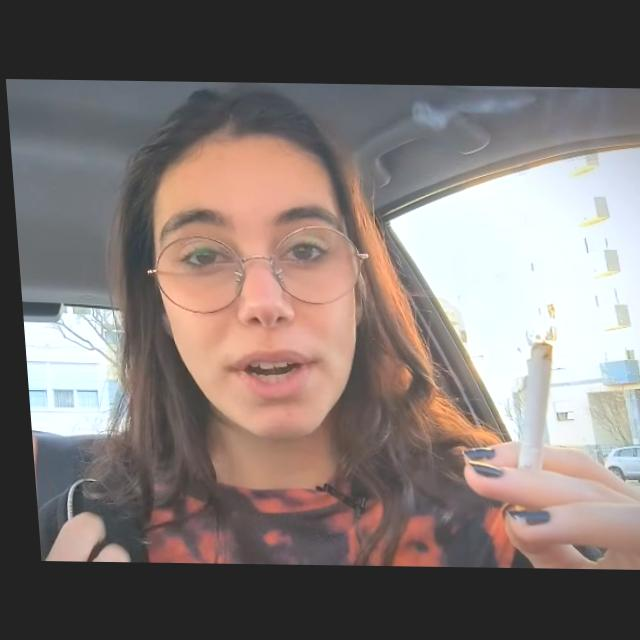cigarette: (497, 339, 558, 511)
